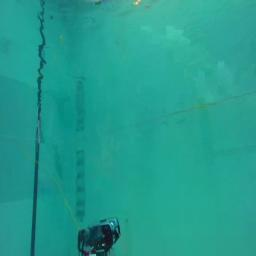Side: (76, 216, 121, 256)
